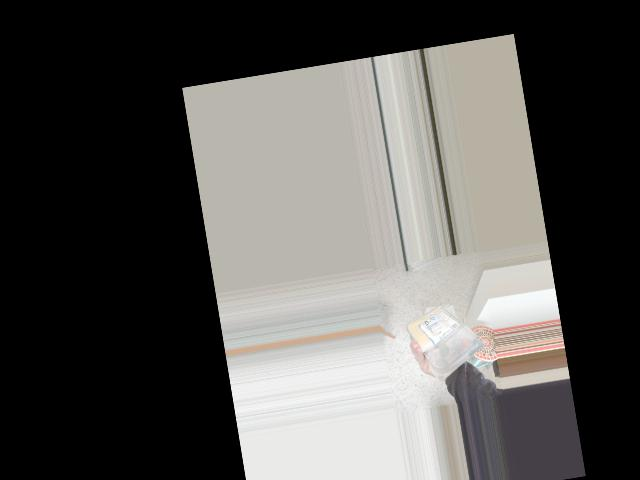cheese: (412, 294, 488, 378)
